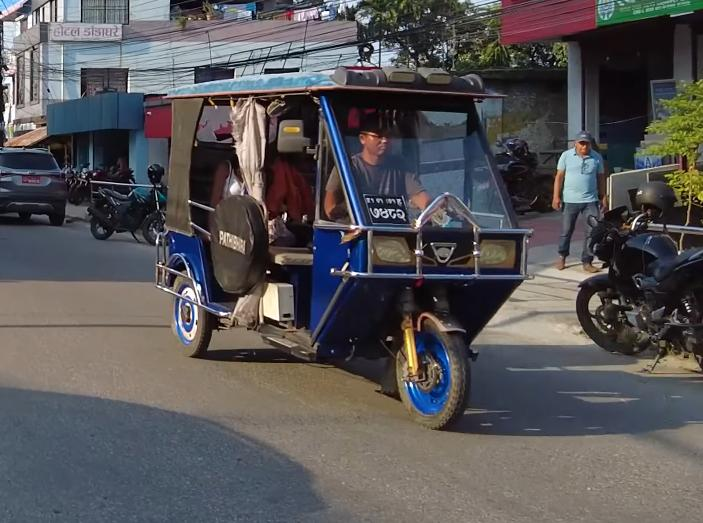bike: (571, 199, 703, 384), (88, 175, 176, 246)
car: (0, 142, 71, 231)
e-rickshaw: (152, 62, 542, 425)
